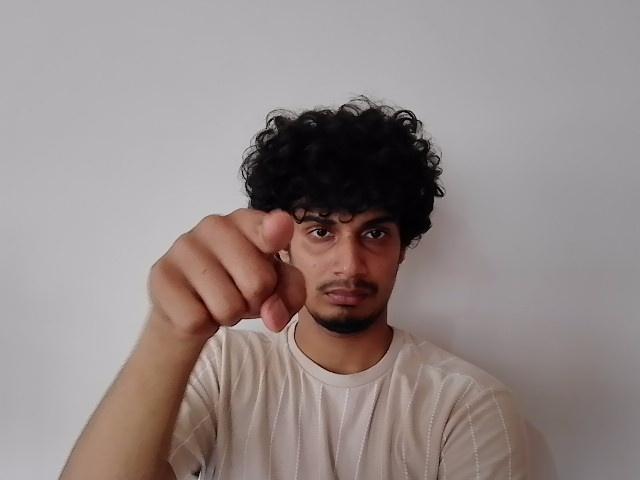you: (141, 209, 309, 340)
